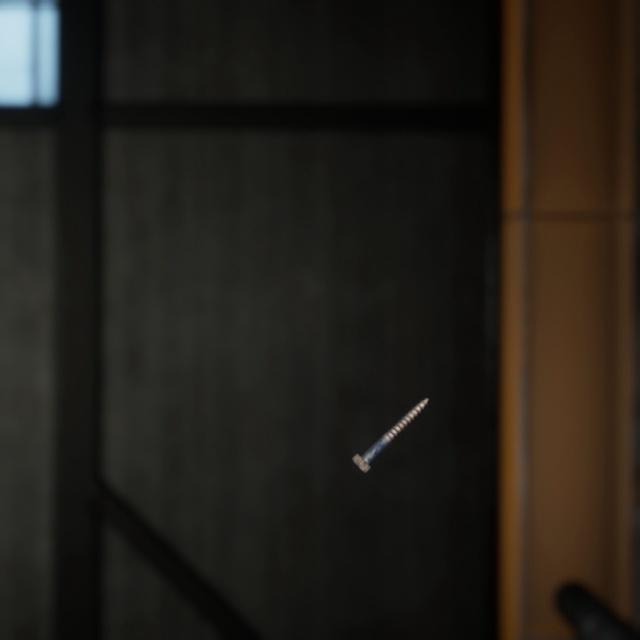bolt: (347, 374, 434, 458)
